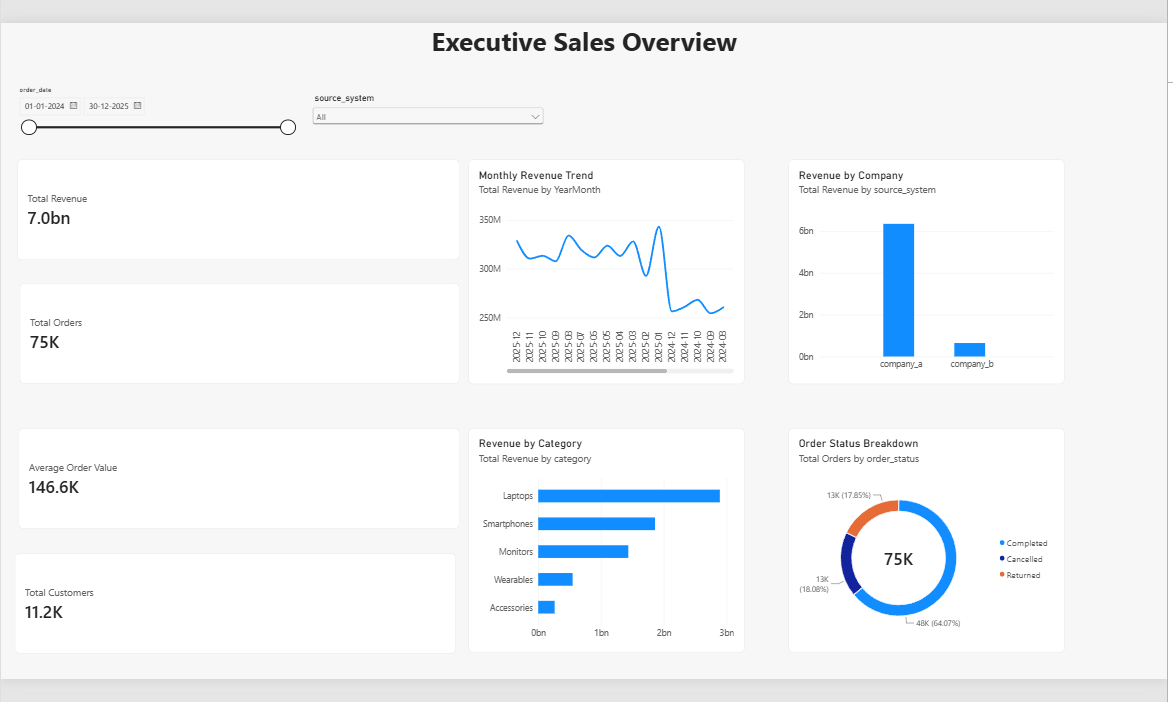

Layout of this report page (visuals, bound fields, positions):
{"tool":"powerbi","page":{"name":"Executive Sales Overview","canvas":[1920,1080],"ordinal":0},"visuals":[{"type":"cardVisual","fields":{"Data":["fact_sales.Total Revenue"]},"box":[26.8,224.4,728.6,166.7],"z":0},{"type":"cardVisual","fields":{"Data":["fact_sales.Total Orders"]},"box":[30.9,428.1,724.5,166.7],"z":1000},{"type":"cardVisual","fields":{"Data":["fact_sales.Average Order Value"]},"box":[28.8,666.9,726.6,166.7],"z":2000},{"type":"cardVisual","fields":{"Data":["fact_sales.Total Customers"]},"box":[22.6,872.7,726.6,166.7],"z":3000},{"type":"lineChart","title":"Monthly Revenue Trend","fields":{"Category":["fact_sales.YearMonth"],"Y":["fact_sales.Total Revenue"]},"box":[770,224,454,370],"z":4000},{"type":"clusteredColumnChart","title":"Revenue by Company","fields":{"Category":["fact_sales.source_system"],"Y":["fact_sales.Total Revenue"]},"box":[1296,224,454,370],"z":5000},{"type":"barChart","title":" Revenue by Category","fields":{"Category":["dim_product.category"],"Y":["fact_sales.Total Revenue"]},"box":[770,666,454,370],"z":6000},{"type":"donutChart","title":"Order Status Breakdown","fields":{"Category":["fact_sales.order_status"],"Y":["fact_sales.Total Orders"]},"box":[1296,666,454,370],"z":7000},{"type":"slicer","fields":{"Values":["fact_sales.order_date"]},"box":[22,102,466,98],"z":8000},{"type":"slicer","fields":{"Values":["fact_sales.source_system"]},"box":[508,116,390,84],"z":9000},{"type":"textbox","box":[0,0,1920.4,102.9],"z":10000}]}

Visuals, with their boxes on the page's 1920x1080 design canvas (x1, y1, x2, y2). These are canvas units, not pixel positions in the 1173x702 screenshot, which may show the page scaled, cropped or inside an application window:
cardVisual - fact_sales.Total Revenue: {"left": 27, "top": 224, "right": 755, "bottom": 391}
cardVisual - fact_sales.Total Orders: {"left": 31, "top": 428, "right": 755, "bottom": 595}
cardVisual - fact_sales.Average Order Value: {"left": 29, "top": 667, "right": 755, "bottom": 834}
cardVisual - fact_sales.Total Customers: {"left": 23, "top": 873, "right": 749, "bottom": 1039}
"Monthly Revenue Trend" lineChart: {"left": 770, "top": 224, "right": 1224, "bottom": 594}
"Revenue by Company" clusteredColumnChart: {"left": 1296, "top": 224, "right": 1750, "bottom": 594}
" Revenue by Category" barChart: {"left": 770, "top": 666, "right": 1224, "bottom": 1036}
"Order Status Breakdown" donutChart: {"left": 1296, "top": 666, "right": 1750, "bottom": 1036}
slicer - fact_sales.order_date: {"left": 22, "top": 102, "right": 488, "bottom": 200}
slicer - fact_sales.source_system: {"left": 508, "top": 116, "right": 898, "bottom": 200}
textbox: {"left": 0, "top": 0, "right": 1920, "bottom": 103}
